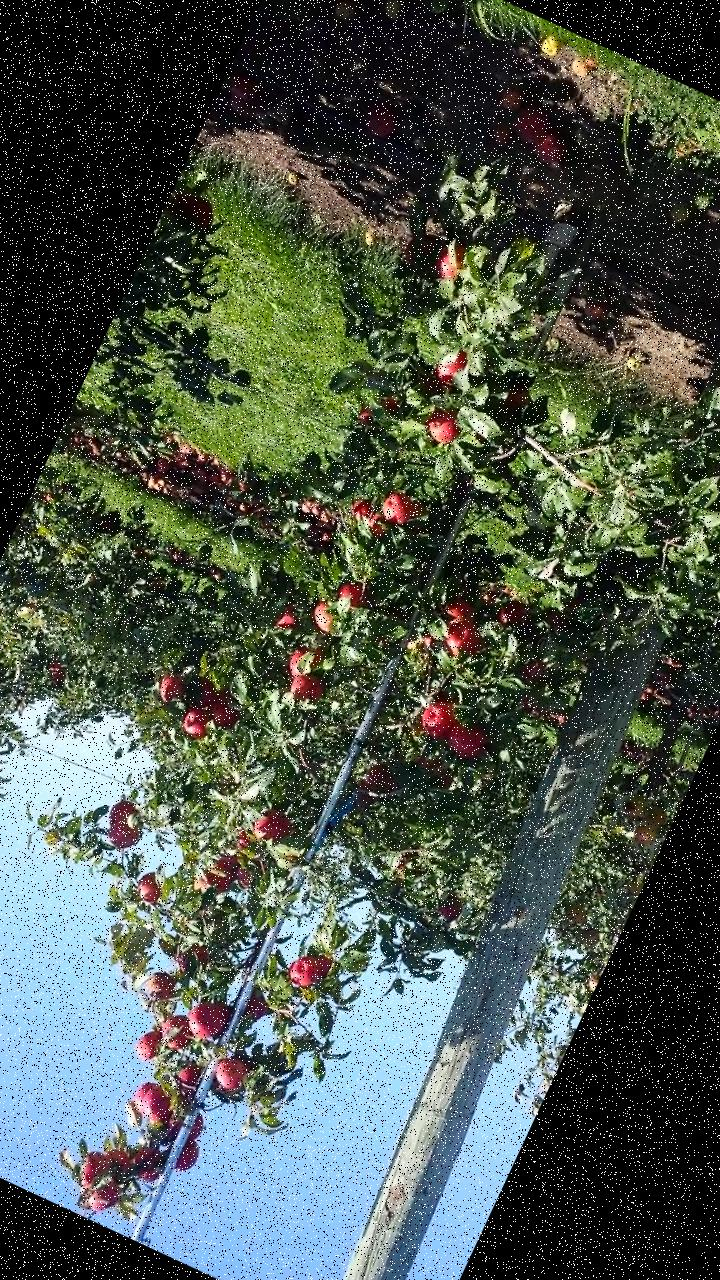Apple: (180, 993, 234, 1046), (246, 800, 299, 849), (158, 1102, 207, 1152), (415, 694, 462, 746), (204, 683, 250, 734), (168, 187, 219, 233), (440, 618, 488, 666), (188, 858, 238, 904), (410, 748, 460, 792), (400, 227, 445, 275), (426, 342, 470, 391), (441, 720, 487, 766), (125, 1140, 170, 1186), (72, 1148, 115, 1196), (152, 1010, 198, 1054), (422, 402, 466, 448), (430, 238, 472, 286), (280, 950, 324, 994), (374, 491, 417, 534), (209, 1054, 251, 1098), (138, 1085, 180, 1128), (103, 816, 147, 856), (282, 645, 323, 686), (284, 670, 327, 709), (441, 594, 483, 633), (306, 595, 344, 637), (330, 574, 372, 612), (431, 889, 471, 927), (176, 704, 214, 744), (86, 1176, 122, 1218), (185, 673, 221, 714), (169, 1138, 204, 1180), (128, 1077, 163, 1118), (241, 988, 276, 1026), (514, 652, 550, 688), (132, 1028, 166, 1064), (134, 870, 168, 906), (362, 761, 398, 795), (399, 501, 432, 537), (144, 968, 178, 1002), (178, 941, 209, 978), (100, 1144, 135, 1176), (108, 799, 141, 831), (417, 630, 452, 660), (152, 674, 184, 706), (307, 950, 338, 983), (345, 493, 376, 524), (172, 1061, 202, 1093), (348, 780, 380, 810), (274, 608, 304, 638), (497, 603, 528, 632), (214, 847, 245, 875), (503, 383, 531, 411), (364, 513, 391, 539), (232, 831, 255, 854), (234, 866, 256, 890), (355, 407, 378, 429), (380, 395, 400, 416)
